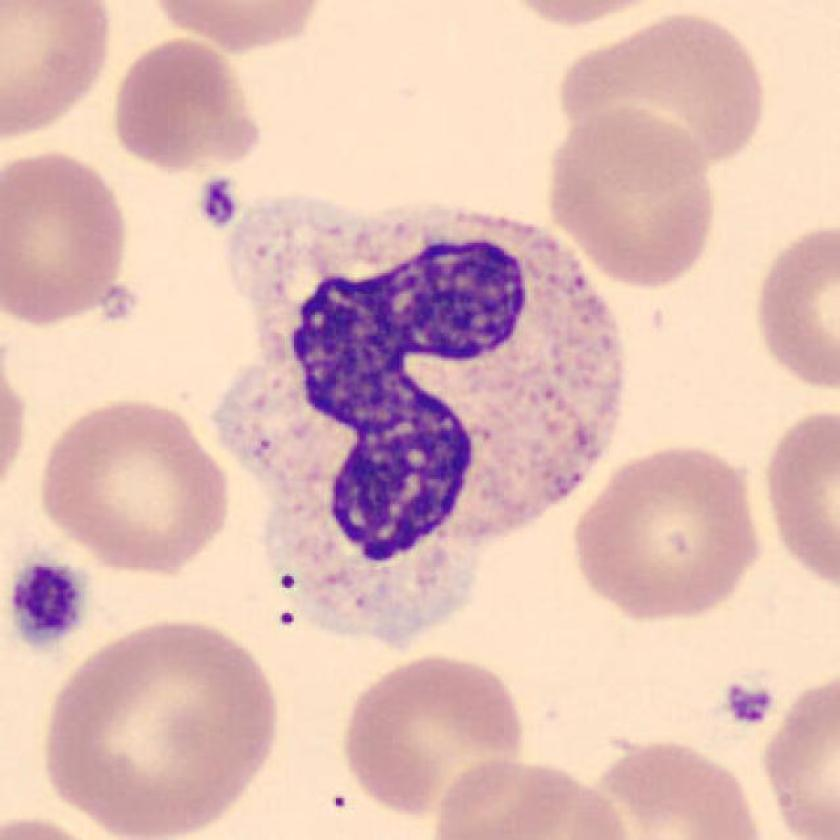neutrophil: (219, 193, 624, 640)
